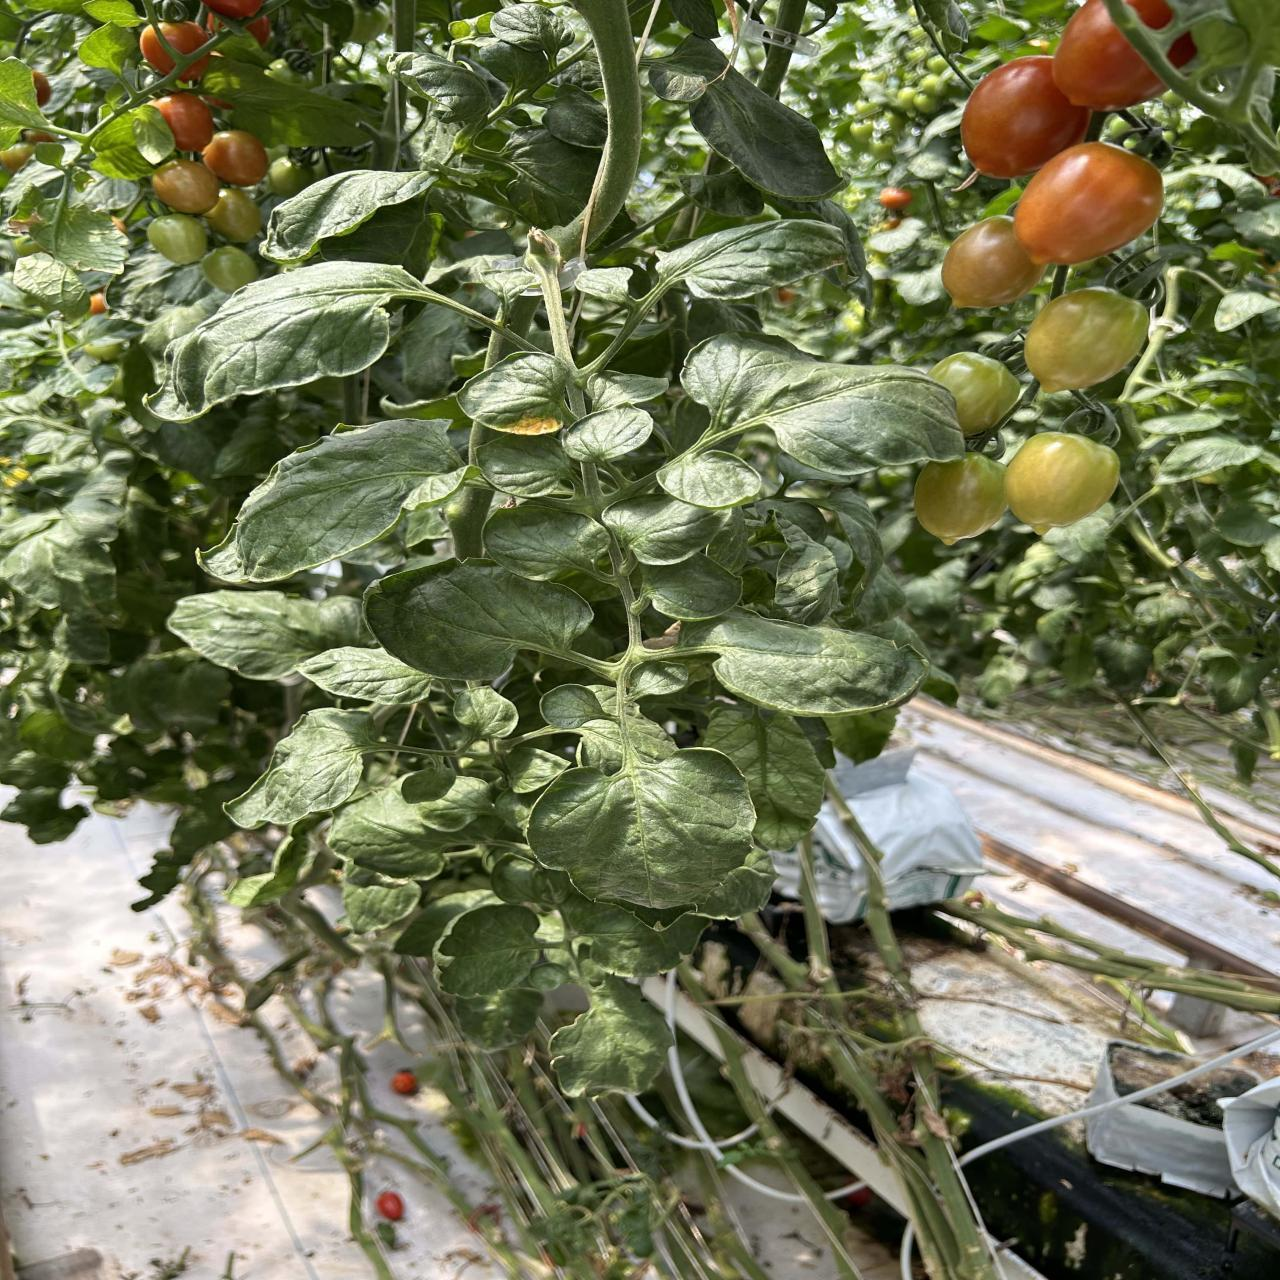Hoja: (525, 712, 769, 915), (150, 261, 424, 421), (681, 334, 964, 482), (205, 420, 463, 580), (642, 36, 840, 200), (365, 560, 593, 681), (675, 608, 926, 715), (169, 590, 372, 681), (329, 765, 490, 879), (229, 708, 379, 828), (260, 170, 436, 261), (549, 971, 673, 1097), (655, 219, 845, 300), (434, 904, 540, 998), (483, 504, 610, 579), (601, 495, 731, 565), (297, 646, 434, 703), (639, 558, 742, 620), (658, 450, 764, 509), (560, 404, 653, 463)
Pedunculo: (545, 0, 642, 267)
Tomate: (1014, 142, 1164, 265), (961, 55, 1090, 178), (1024, 287, 1149, 393), (1053, 0, 1166, 110), (1005, 433, 1119, 535), (941, 217, 1047, 307), (914, 452, 1007, 543), (928, 352, 1020, 436), (151, 91, 215, 152), (202, 130, 268, 188), (151, 159, 219, 215), (203, 188, 261, 244), (148, 215, 207, 265), (200, 246, 258, 293)
